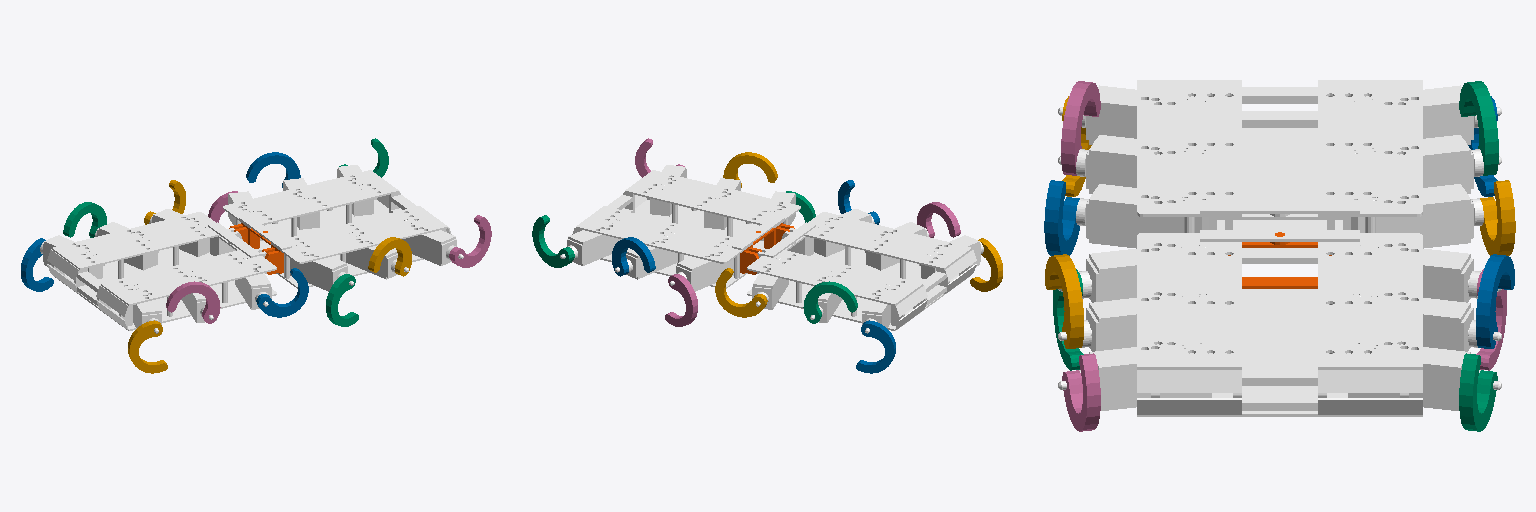
--- Render facts (derived) ---
3 views of the same robot in one strip: view 1: azimuth 30°, elevation 25°; view 2: azimuth 150°, elevation 25°; view 3: azimuth 270°, elevation 25° (orthographic).
Model strirus_gamma with 33 links and 32 joints (14 revolute, 18 fixed), rooted at base_footprint, posed all joints at 0.
Visible links, largest first — view 1: body_1_part, body_2_part, motor_box_right_5, motor_box_right_3, leg_right_0, leg_right_1, leg_right_2, leg_right_4, leg_right_3, motor_box_right_4, leg_right_5, leg_left_1 (+10 smaller); view 2: body_1_part, body_2_part, motor_box_left_5, motor_box_left_3, leg_left_0, leg_left_1, leg_left_2, leg_left_4, leg_left_3, motor_box_left_4, leg_left_5, leg_right_1 (+10 smaller); view 3: body_2_part, body_1_part, motor_box_left_2, motor_box_right_2, motor_box_left_1, motor_box_right_1, motor_box_left_5, motor_box_right_5, motor_box_left_4, motor_box_right_4, motor_box_left_3, motor_box_right_3 (+16 smaller).
Link boxes in pixels (x1,y1,x2,y2): body_1_part: [47, 212, 276, 330]; body_2_part: [223, 170, 451, 288]; motor_box_right_5: [402, 219, 463, 265]; motor_box_right_3: [290, 245, 353, 291]; leg_right_0: [128, 320, 167, 373]; leg_right_1: [166, 281, 220, 323]; leg_right_2: [256, 268, 308, 317]; leg_right_4: [368, 237, 411, 276]; leg_right_3: [326, 274, 358, 326]; motor_box_right_4: [346, 232, 408, 279]; leg_right_5: [449, 215, 491, 267]; leg_left_1: [63, 202, 106, 237]; body_1_part: [747, 212, 976, 330]; body_2_part: [572, 170, 800, 288]; motor_box_left_5: [560, 219, 621, 265]; motor_box_left_3: [670, 245, 733, 291]; leg_left_0: [856, 320, 895, 373]; leg_left_1: [803, 281, 857, 323]; leg_left_2: [715, 268, 767, 317]; leg_left_4: [612, 237, 655, 276]; leg_left_3: [665, 274, 697, 326]; motor_box_left_4: [615, 232, 677, 279]; leg_left_5: [532, 215, 574, 267]; leg_right_1: [917, 202, 960, 237]; body_2_part: [1137, 230, 1422, 416]; body_1_part: [1137, 80, 1422, 263]; motor_box_left_2: [1351, 184, 1483, 248]; motor_box_right_2: [1076, 184, 1208, 248]; motor_box_left_1: [1353, 135, 1501, 193]; motor_box_right_1: [1058, 135, 1206, 193]; motor_box_left_5: [1348, 343, 1501, 410]; motor_box_right_5: [1058, 343, 1211, 410]; motor_box_left_4: [1349, 294, 1501, 351]; motor_box_right_4: [1058, 294, 1210, 351]; motor_box_left_3: [1348, 245, 1501, 302]; motor_box_right_3: [1058, 245, 1211, 302].
Bounding box of the posed robot: 0.7061 × 0.4293 × 0.1427 m (x, y, z).
Meshes: 6 distinct files referenced, 28 mesh visuals loaded (6 binary STL).

URDF robot description (strirus_gamma):
<?xml version="1.0" encoding="utf-8"?>
<!-- =================================================================================== -->
<!-- |    This document was autogenerated by xacro from [local-path]/catkin_ws/src/strirus_gait_planning/physical_object/robot_description/xarco/strirus_gamma.xacro | -->
<!-- |    EDITING THIS FILE BY HAND IS NOT RECOMMENDED                                 | -->
<!-- =================================================================================== -->
<robot name="strirus_gamma">
  <!-- Import Rviz colors -->
  <material name="black">
    <color rgba="0.0 0.0 0.0 1.0"/>
  </material>
  <material name="blue">
    <color rgba="0.0 0.0 0.8 1.0"/>
  </material>
  <material name="green">
    <color rgba="0.0 0.8 0.0 1.0"/>
  </material>
  <material name="grey">
    <color rgba="0.2 0.2 0.2 1.0"/>
  </material>
  <material name="orange">
    <color rgba="1.0 0.423529411765 0.0392156862745 1.0"/>
  </material>
  <material name="brown">
    <color rgba="0.870588235294 0.811764705882 0.764705882353 1.0"/>
  </material>
  <material name="red">
    <color rgba="0.8 0.0 0.0 1.0"/>
  </material>
  <material name="white">
    <color rgba="1.0 1.0 1.0 1.0"/>
  </material>
  <!-- Body description -->
  <link name="base_footprint"/>
  <joint name="base_footprint_body_1_part_fixed" type="fixed">
    <parent link="base_footprint"/>
    <child link="body_1_part"/>
    <origin rpy="0  0  0" xyz="0 0 0.08"/>
  </joint>
  <!-- body 1 -->
  <link name="body_1_part">
    <inertial>
      <mass value="0.665"/>
      <origin rpy="0  0  0" xyz="0.101 0 -0.002"/>
      <inertia ixx="0.005" ixy="0" ixz="0.0001366" iyy="0.013" iyz="0" izz="0.017"/>
    </inertial>
    <collision>
      <origin rpy="0  0  0" xyz="0 0 0"/>
      <geometry>
        <mesh filename="package://robot_description/strirus_cad_design/stl/body_1_collision.stl" scale="1 1 1"/>
      </geometry>
    </collision>
    <visual>
      <origin rpy="0  0  0" xyz="0 0 0"/>
      <geometry>
        <mesh filename="package://robot_description/strirus_cad_design/stl/body_1_visual.stl" scale="1 1 1"/>
        <!-- <mesh filename="package://robot_description/strirus_cad_design/stl/body_1_collision.stl" scale="1 1 1"/> -->
      </geometry>
      <material name="white"/>
    </visual>
  </link>
  <!-- tof camera 1-->
  <link name="tof_camera_1"/>
  <joint name="body_1_part_tof_camera_1_fixed" type="fixed">
    <parent link="body_1_part"/>
    <child link="tof_camera_1"/>
    <origin rpy="0  0  3.14159265359" xyz="-0.0245 0 0"/>
  </joint>
  <!-- imu 1 -->
  <link name="imu_1"/>
  <joint name="body_1_part_imu_1_fixed" type="fixed">
    <parent link="body_1_part"/>
    <child link="imu_1"/>
    <origin rpy="0  0  0" xyz="0 0 0"/>
  </joint>
  <!-- body 2 -->
  <link name="body_2_part">
    <inertial>
      <mass value="0.665"/>
      <origin rpy="0  0  0" xyz="0.146 0 -0.002"/>
      <inertia ixx="0.005" ixy="1.656e-06" ixz="0.0002448" iyy="0.02" iyz="-2.631e-08" izz="0.024"/>
    </inertial>
    <collision>
      <origin rpy="0  0  0" xyz="0 0 0"/>
      <geometry>
        <mesh filename="package://robot_description/strirus_cad_design/stl/body_2_collision.stl" scale="1 1 1"/>
      </geometry>
    </collision>
    <visual>
      <origin rpy="0  0  0" xyz="0 0 0"/>
      <geometry>
        <mesh filename="package://robot_description/strirus_cad_design/stl/body_2_visual.stl" scale="1 1 1"/>
        <!-- <mesh filename="package://robot_description/strirus_cad_design/stl/body_2_collision.stl" scale="1 1 1"/> -->
      </geometry>
      <material name="white"/>
    </visual>
  </link>
  <!-- tof camera 2 -->
  <link name="tof_camera_2"/>
  <joint name="body_2_part_tof_camera_2_fixed" type="fixed">
    <parent link="body_2_part"/>
    <child link="tof_camera_2"/>
    <origin rpy="0  0  0" xyz="0.2715 0 0"/>
  </joint>
  <!-- imu 1 -->
  <link name="imu_2"/>
  <joint name="body_2_part_imu_2_fixed" type="fixed">
    <parent link="body_2_part"/>
    <child link="imu_2"/>
    <origin rpy="0  0  0" xyz="0.2226 0 0"/>
  </joint>
  <!-- bridge 1 -->
  <link name="bridge_1_part">
    <inertial>
      <mass value="0.147"/>
      <origin rpy="0  0  0" xyz="0.005 0 0"/>
      <inertia ixx="0.0003384" ixy="0" ixz="0" iyy="5.442e-05" iyz="0" izz="0.0003303"/>
    </inertial>
    <collision>
      <origin rpy="0  0  0" xyz="0 0 0"/>
      <geometry>
        <mesh filename="package://robot_description/strirus_cad_design/stl/bridge_1_collision.stl" scale="1 1 1"/>
      </geometry>
    </collision>
    <visual>
      <origin rpy="0  0  0" xyz="0 0 0"/>
      <geometry>
        <mesh filename="package://robot_description/strirus_cad_design/stl/bridge_1_visual.stl" scale="1 1 1"/>
        <!-- <mesh filename="package://robot_description/strirus_cad_design/stl/bridge_1_collision.stl" scale="1 1 1"/> -->
      </geometry>
      <material name="white"/>
    </visual>
  </link>
  <!-- bridge 2 -->
  <link name="bridge_2_part">
    <inertial>
      <mass value="0.147"/>
      <origin rpy="0  0  0" xyz="0.025 0 0"/>
      <inertia ixx="0.0003654" ixy="0" ixz="-1.872e-06" iyy="0.0001394" iyz="0" izz="0.0004423"/>
    </inertial>
    <collision>
      <origin rpy="0  0  0" xyz="0 0 0"/>
      <geometry>
        <mesh filename="package://robot_description/strirus_cad_design/stl/bridge_2_collision.stl" scale="1 1 1"/>
      </geometry>
    </collision>
    <visual>
      <origin rpy="0  0  0" xyz="0 0 0"/>
      <geometry>
        <mesh filename="package://robot_description/strirus_cad_design/stl/bridge_2_visual.stl" scale="1 1 1"/>
        <!-- <mesh filename="package://robot_description/strirus_cad_design/stl/bridge_2_collision.stl" scale="1 1 1"/> -->
      </geometry>
      <material name="orange"/>
    </visual>
  </link>
  <joint name="segment_up_revolute" type="revolute">
    <parent link="bridge_1_part"/>
    <child link="bridge_2_part"/>
    <origin rpy="0 -0.0 0" xyz="0.03 0 0"/>
    <axis xyz="0 -1  0"/>
    <limit effort="5" lower="-1.1344640138" upper="1.1344640138" velocity="0.00872664625997"/>
    <dynamics damping="0.1" friction="0.0"/>
  </joint>
  <joint name="segment_side_revolute" type="revolute">
    <parent link="body_1_part"/>
    <child link="bridge_1_part"/>
    <origin rpy="0 0 -0.0" xyz="0.247 0 0"/>
    <axis xyz="0 0  -1"/>
    <limit effort="5" lower="-0.261799387799" upper="0.261799387799" velocity="0.00872664625997"/>
    <dynamics damping="0.0" friction="0.2"/>
  </joint>
  <joint name="bridge_2_part_body_2_part_fixed" type="fixed">
    <parent link="bridge_2_part"/>
    <child link="body_2_part"/>
    <origin rpy="0 0 0" xyz="0.03 0 0"/>
  </joint>
  <!--===================== Link description =====================-->
  <link name="motor_box_left_5">
    <inertial>
      <mass value="0.286"/>
      <origin rpy="0  0  0" xyz="0.053 0.003 0"/>
      <inertia ixx="8.104e-05" ixy="8.747e-06" ixz="2.555e-07" iyy="0.001" iyz="0" izz="0.001"/>
    </inertial>
    <collision>
      <origin rpy="0  0  0" xyz="0 0 0"/>
      <geometry>
        <mesh filename="package://robot_description/strirus_cad_design/stl/motor_box_collision.stl" scale="1 1 1"/>
      </geometry>
    </collision>
    <visual>
      <origin rpy="0  0  0" xyz="0 0 0"/>
      <geometry>
        <mesh filename="package://robot_description/strirus_cad_design/stl/motor_box_visual.stl" scale="1 1 1"/>
      </geometry>
      <material name="white"/>
    </visual>
  </link>
  <link name="leg_left_5">
    <inertial>
      <mass value="0.051"/>
      <origin rpy="0  0  0" xyz="-0.013348671 0 0"/>
      <inertia ixx="0.000102" ixy="0" ixz="-2.817e-05" iyy="0.0001322" iyz="0" izz="3.167e-05"/>
    </inertial>
    <collision>
      <origin rpy="0  0  0" xyz="0 0 0"/>
      <geometry>
        <mesh filename="package://robot_description/strirus_cad_design/stl/leg_80_collision.stl" scale="1 1 1"/>
      </geometry>
    </collision>
    <visual>
      <origin rpy="0 0 0" xyz="0 0 0"/>
      <geometry>
        <mesh filename="package://robot_description/strirus_cad_design/stl/leg_80_visual.stl" scale="1 1 1"/>
      </geometry>
    </visual>
  </link>
  <joint name="motor_box_left_5_fixed_joint" type="fixed">
    <child link="motor_box_left_5"/>
    <parent link="body_2_part"/>
    <origin rpy="0       0        1.308996939" xyz="0.231 0.0701  0"/>
  </joint>
  <joint name="leg_left_5_revolute_joint" type="revolute">
    <parent link="motor_box_left_5"/>
    <child link="leg_left_5"/>
    <origin rpy="0 10.471975512 -1.57079632679" xyz="0.123 0 0"/>
    <!--=============== Joint properties ===============-->
    <axis xyz="0 1  0"/>
    <limit effort="300" lower="-1e+5" upper="1e+5" velocity="3.0"/>
    <dynamics damping="0.001" friction="0.0"/>
  </joint>
  <!--===================== Leg transmission description =====================-->
  <transmission name="leg_left_5_trans">
    <type>transmission_interface/SimpleTransmission</type>
    <joint name="leg_left_5_revolute_joint">
      <hardwareInterface>hardware_interface/PositionJointInterface</hardwareInterface>
      <!-- <hardwareInterface>hardware_interface/EffortJointInterface</hardwareInterface> -->
    </joint>
    <actuator name="leg_left_5_motor">
      <mechanicalReduction>1</mechanicalReduction>
    </actuator>
  </transmission>
  <gazebo reference="leg_left_5">

        </gazebo>
  <gazebo reference="leg_left_5">
    <mu1 value="100.0"/>
    <mu2 value="100.0"/>
    <material>Gazebo/Green</material>
  </gazebo>
  <!-- frameName seems not working data are given according to the world frame -->
  <gazebo reference="leg_left_5">
    <sensor name="leg_left_5_bumper" type="contact">
      <always_on>true</always_on>
      <update_rate>50</update_rate>
      <contact>
        <collision>leg_left_5_collision</collision>
      </contact>
      <plugin filename="libgazebo_ros_bumper.so" name="leg_left_5_bumper_controller">
        <bumperTopicName>leg_left_5_bumper</bumperTopicName>
        <frameName>world</frameName>
      </plugin>
    </sensor>
  </gazebo>
  <!--===================== Link description =====================-->
  <link name="motor_box_left_4">
    <inertial>
      <mass value="0.286"/>
      <origin rpy="0  0  0" xyz="0.053 0.003 0"/>
      <inertia ixx="8.104e-05" ixy="8.747e-06" ixz="2.555e-07" iyy="0.001" iyz="0" izz="0.001"/>
    </inertial>
    <collision>
      <origin rpy="0  0  0" xyz="0 0 0"/>
      <geometry>
        <mesh filename="package://robot_description/strirus_cad_design/stl/motor_box_collision.stl" scale="1 1 1"/>
      </geometry>
    </collision>
    <visual>
      <origin rpy="0  0  0" xyz="0 0 0"/>
      <geometry>
        <mesh filename="package://robot_description/strirus_cad_design/stl/motor_box_visual.stl" scale="1 1 1"/>
      </geometry>
      <material name="white"/>
    </visual>
  </link>
  <link name="leg_left_4">
    <inertial>
      <mass value="0.051"/>
      <origin rpy="0  0  0" xyz="-0.013348671 0 0"/>
      <inertia ixx="0.000102" ixy="0" ixz="-2.817e-05" iyy="0.0001322" iyz="0" izz="3.167e-05"/>
    </inertial>
    <collision>
      <origin rpy="0  0  0" xyz="0 0 0"/>
      <geometry>
        <mesh filename="package://robot_description/strirus_cad_design/stl/leg_80_collision.stl" scale="1 1 1"/>
      </geometry>
    </collision>
    <visual>
      <origin rpy="0 0 0" xyz="0 0 0"/>
      <geometry>
        <mesh filename="package://robot_description/strirus_cad_design/stl/leg_80_visual.stl" scale="1 1 1"/>
      </geometry>
    </visual>
  </link>
  <joint name="motor_box_left_4_fixed_joint" type="fixed">
    <child link="motor_box_left_4"/>
    <parent link="body_2_part"/>
    <origin rpy="0       0        1.308996939" xyz="0.125 0.0701  0"/>
  </joint>
  <joint name="leg_left_4_revolute_joint" type="revolute">
    <parent link="motor_box_left_4"/>
    <child link="leg_left_4"/>
    <origin rpy="0 8.37758040957 -1.57079632679" xyz="0.123 0 0"/>
    <!--=============== Joint properties ===============-->
    <axis xyz="0 1  0"/>
    <limit effort="300" lower="-1e+5" upper="1e+5" velocity="3.0"/>
    <dynamics damping="0.001" friction="0.0"/>
  </joint>
  <!--===================== Leg transmission description =====================-->
  <transmission name="leg_left_4_trans">
    <type>transmission_interface/SimpleTransmission</type>
    <joint name="leg_left_4_revolute_joint">
      <hardwareInterface>hardware_interface/PositionJointInterface</hardwareInterface>
      <!-- <hardwareInterface>hardware_interface/EffortJointInterface</hardwareInterface> -->
    </joint>
    <actuator name="leg_left_4_motor">
      <mechanicalReduction>1</mechanicalReduction>
    </actuator>
  </transmission>
  <gazebo reference="leg_left_4">

        </gazebo>
  <gazebo reference="leg_left_4">
    <mu1 value="100.0"/>
    <mu2 value="100.0"/>
    <material>Gazebo/Green</material>
  </gazebo>
  <!-- frameName seems not working data are given according to the world frame -->
  <gazebo reference="leg_left_4">
    <sensor name="leg_left_4_bumper" type="contact">
      <always_on>true</always_on>
      <update_rate>50</update_rate>
      <contact>
        <collision>leg_left_4_collision</collision>
      </contact>
      <plugin filename="libgazebo_ros_bumper.so" name="leg_left_4_bumper_controller">
        <bumperTopicName>leg_left_4_bumper</bumperTopicName>
        <frameName>world</frameName>
      </plugin>
    </sensor>
  </gazebo>
  <!--===================== Link description =====================-->
  <link name="motor_box_left_3">
    <inertial>
      <mass value="0.286"/>
      <origin rpy="0  0  0" xyz="0.053 0.003 0"/>
      <inertia ixx="8.104e-05" ixy="8.747e-06" ixz="2.555e-07" iyy="0.001" iyz="0" izz="0.001"/>
    </inertial>
    <collision>
      <origin rpy="0  0  0" xyz="0 0 0"/>
      <geometry>
        <mesh filename="package://robot_description/strirus_cad_design/stl/motor_box_collision.stl" scale="1 1 1"/>
      </geometry>
    </collision>
    <visual>
      <origin rpy="0  0  0" xyz="0 0 0"/>
      <geometry>
        <mesh filename="package://robot_description/strirus_cad_design/stl/motor_box_visual.stl" scale="1 1 1"/>
      </geometry>
      <material name="white"/>
    </visual>
  </link>
  <link name="leg_left_3">
    <inertial>
      <mass value="0.051"/>
      <origin rpy="0  0  0" xyz="-0.013348671 0 0"/>
      <inertia ixx="0.000102" ixy="0" ixz="-2.817e-05" iyy="0.0001322" iyz="0" izz="3.167e-05"/>
    </inertial>
    <collision>
      <origin rpy="0  0  0" xyz="0 0 0"/>
      <geometry>
        <mesh filename="package://robot_description/strirus_cad_design/stl/leg_80_collision.stl" scale="1 1 1"/>
      </geometry>
    </collision>
    <visual>
      <origin rpy="0 0 0" xyz="0 0 0"/>
      <geometry>
        <mesh filename="package://robot_description/strirus_cad_design/stl/leg_80_visual.stl" scale="1 1 1"/>
      </geometry>
    </visual>
  </link>
  <joint name="motor_box_left_3_fixed_joint" type="fixed">
    <child link="motor_box_left_3"/>
    <parent link="body_2_part"/>
    <origin rpy="0       0        1.308996939" xyz="0.019 0.0701  0"/>
  </joint>
  <joint name="leg_left_3_revolute_joint" type="revolute">
    <parent link="motor_box_left_3"/>
    <child link="leg_left_3"/>
    <origin rpy="0 6.28318530718 -1.57079632679" xyz="0.123 0 0"/>
    <!--=============== Joint properties ===============-->
    <axis xyz="0 1  0"/>
    <limit effort="300" lower="-1e+5" upper="1e+5" velocity="3.0"/>
    <dynamics damping="0.001" friction="0.0"/>
  </joint>
  <!--===================== Leg transmission description =====================-->
  <transmission name="leg_left_3_trans">
    <type>transmission_interface/SimpleTransmission</type>
    <joint name="leg_left_3_revolute_joint">
      <hardwareInterface>hardware_interface/PositionJointInterface</hardwareInterface>
      <!-- <hardwareInterface>hardware_interface/EffortJointInterface</hardwareInterface> -->
    </joint>
    <actuator name="leg_left_3_motor">
      <mechanicalReduction>1</mechanicalReduction>
    </actuator>
  </transmission>
  <gazebo reference="leg_left_3">

        </gazebo>
  <gazebo reference="leg_left_3">
    <mu1 value="100.0"/>
    <mu2 value="100.0"/>
    <material>Gazebo/Green</material>
  </gazebo>
  <!-- frameName seems not working data are given according to the world frame -->
  <gazebo reference="leg_left_3">
    <sensor name="leg_left_3_bumper" type="contact">
      <always_on>true</always_on>
      <update_rate>50</update_rate>
      <contact>
        <collision>leg_left_3_collision</collision>
      </contact>
      <plugin filename="libgazebo_ros_bumper.so" name="leg_left_3_bumper_controller">
        <bumperTopicName>leg_left_3_bumper</bumperTopicName>
        <frameName>world</frameName>
      </plugin>
    </sensor>
  </gazebo>
  <!--===================== Link description =====================-->
  <link name="motor_box_left_2">
    <inertial>
      <mass value="0.286"/>
      <origin rpy="0  0  0" xyz="0.053 0.003 0"/>
      <inertia ixx="8.104e-05" ixy="8.747e-06" ixz="2.555e-07" iyy="0.001" iyz="0" izz="0.001"/>
    </inertial>
    <collision>
      <origin rpy="0  0  0" xyz="0 0 0"/>
      <geometry>
        <mesh filename="package://robot_description/strirus_cad_design/stl/motor_box_collision.stl" scale="1 1 1"/>
      </geometry>
    </collision>
    <visual>
      <origin rpy="0  0  0" xyz="0 0 0"/>
      <geometry>
        <mesh filename="package://robot_description/strirus_cad_design/stl/motor_box_visual.stl" scale="1 1 1"/>
      </geometry>
      <material name="white"/>
    </visual>
  </link>
  <link name="leg_left_2">
    <inertial>
      <mass value="0.051"/>
      <origin rpy="0  0  0" xyz="-0.013348671 0 0"/>
      <inertia ixx="0.000102" ixy="0" ixz="-2.817e-05" iyy="0.0001322" iyz="0" izz="3.167e-05"/>
    </inertial>
    <collision>
      <origin rpy="0  0  0" xyz="0 0 0"/>
      <geometry>
        <mesh filename="package://robot_description/strirus_cad_design/stl/leg_80_collision.stl" scale="1 1 1"/>
      </geometry>
    </collision>
    <visual>
      <origin rpy="0 0 0" xyz="0 0 0"/>
      <geometry>
        <mesh filename="package://robot_description/strirus_cad_design/stl/leg_80_visual.stl" scale="1 1 1"/>
      </geometry>
    </visual>
  </link>
  <joint name="motor_box_left_2_fixed_joint" type="fixed">
    <child link="motor_box_left_2"/>
    <parent link="body_1_part"/>
    <origin rpy="0       0        1.83259571459" xyz="0.228 0.0701  0"/>
  </joint>
  <joint name="leg_left_2_revolute_joint" type="revolute">
    <parent link="motor_box_left_2"/>
    <child link="leg_left_2"/>
    <origin rpy="0 4.18879020479 -1.57079632679" xyz="0.123 0 0"/>
    <!--=============== Joint properties ===============-->
    <axis xyz="0 1  0"/>
    <limit effort="300" lower="-1e+5" upper="1e+5" velocity="3.0"/>
    <dynamics damping="0.001" friction="0.0"/>
  </joint>
  <!--===================== Leg transmission description =====================-->
  <transmission name="leg_left_2_trans">
    <type>transmission_interface/SimpleTransmission</type>
    <joint name="leg_left_2_revolute_joint">
      <hardwareInterface>hardware_interface/PositionJointInterface</hardwareInterface>
      <!-- <hardwareInterface>hardware_interface/EffortJointInterface</hardwareInterface> -->
    </joint>
    <actuator name="leg_left_2_motor">
      <mechanicalReduction>1</mechanicalReduction>
    </actuator>
  </transmission>
  <gazebo reference="leg_left_2">

        </gazebo>
  <gazebo reference="leg_left_2">
    <mu1 value="100.0"/>
    <mu2 value="100.0"/>
    <material>Gazebo/Green</material>
  </gazebo>
  <!-- frameName seems not working data are given according to the world frame -->
  <gazebo reference="leg_left_2">
    <sensor name="leg_left_2_bumper" type="contact">
      <always_on>true</always_on>
      <update_rate>50</update_rate>
      <contact>
        <collision>leg_left_2_collision</collision>
      </contact>
      <plugin filename="libgazebo_ros_bumper.so" name="leg_left_2_bumper_controller">
        <bumperTopicName>leg_left_2_bumper</bumperTopicName>
        <frameName>world</frameName>
      </plugin>
    </sensor>
  </gazebo>
  <!--===================== Link description =====================-->
  <link name="motor_box_left_1">
    <inertial>
      <mass value="0.286"/>
      <origin rpy="0  0  0" xyz="0.053 0.003 0"/>
      <inertia ixx="8.104e-05" ixy="8.747e-06" ixz="2.555e-07" iyy="0.001" iyz="0" izz="0.001"/>
    </inertial>
    <collision>
      <origin rpy="0  0  0" xyz="0 0 0"/>
      <geometry>
        <mesh filename="package://robot_description/strirus_cad_design/stl/motor_box_collision.stl" scale="1 1 1"/>
      </geometry>
    </collision>
    <visual>
      <origin rpy="0  0  0" xyz="0 0 0"/>
      <geometry>
        <mesh filename="package://robot_description/strirus_cad_design/stl/motor_box_visual.stl" scale="1 1 1"/>
      </geometry>
      <material name="white"/>
    </visual>
  </link>
  <link name="leg_left_1">
    <inertial>
      <mass value="0.051"/>
      <origin rpy="0  0  0" xyz="-0.013348671 0 0"/>
      <inertia ixx="0.000102" ixy="0" ixz="-2.817e-05" iyy="0.0001322" iyz="0" izz="3.167e-05"/>
    </inertial>
    <collision>
      <origin rpy="0  0  0" xyz="0 0 0"/>
      <geometry>
        <mesh filename="package://robot_description/strirus_cad_design/stl/leg_80_collision.stl" scale="1 1 1"/>
      </geometry>
    </collision>
    <visual>
      <origin rpy="0 0 0" xyz="0 0 0"/>
      <geometry>
        <mesh filename="package://robot_description/strirus_cad_design/stl/leg_80_visual.stl" scale="1 1 1"/>
      </geometry>
    </visual>
  </link>
  <joint name="motor_box_left_1_fixed_joint" type="fixed">
    <child link="motor_box_left_1"/>
    <parent link="body_1_part"/>
    <origin rpy="0       0        1.83259571459" xyz="0.122 0.0701  0"/>
  </joint>
  <joint name="leg_left_1_revolute_joint" type="revolute">
    <parent link="motor_box_left_1"/>
    <child link="leg_left_1"/>
    <origin rpy="0 2.09439510239 -1.57079632679" xyz="0.123 0 0"/>
    <!--=============== Joint properties ===============-->
    <axis xyz="0 1  0"/>
    <limit effort="300" lower="-1e+5" upper="1e+5" velocity="3.0"/>
    <dynamics damping="0.001" friction="0.0"/>
  </joint>
  <!--===================== Leg transmission description =====================-->
  <transmission name="leg_left_1_trans">
    <type>transmission_interface/SimpleTransmission</type>
    <joint name="leg_left_1_revolute_joint">
      <hardwareInterface>hardware_interface/PositionJointInterface</hardwareInterface>
      <!-- <hardwareInterface>hardware_interface/EffortJointInterface</hardwareInterface> -->
    </joint>
    <actuator name="leg_left_1_motor">
      <mechanicalReduction>1</mechanicalReduction>
    </actuator>
  </transmission>
  <gazebo reference="leg_left_1">

        </gazebo>
  <gazebo reference="leg_left_1">
    <mu1 value="100.0"/>
    <mu2 value="100.0"/>
    <material>Gazebo/Green</material>
  </gazebo>
  <!-- frameName seems not working data are given according to the world frame -->
  <gazebo reference="leg_left_1">
    <sensor name="leg_left_1_bumper" type="contact">
      <always_on>true</always_on>
      <update_rate>50</update_rate>
      <contact>
        <collision>leg_left_1_collision</collision>
      </contact>
      <plugin filename="libgazebo_ros_bumper.so" name="leg_left_1_bumper_controller">
        <bumperTopicName>leg_left_1_bumper</bumperTopicName>
        <frameName>world</frameName>
      </plugin>
    </sensor>
  </gazebo>
  <!--===================== Link description =====================-->
  <link name="motor_box_left_0">
    <inertial>
      <mass value="0.286"/>
      <origin rpy="0  0  0" xyz="0.053 0.003 0"/>
      <inertia ixx="8.104e-05" ixy="8.747e-06" ixz="2.555e-07" iyy="0.001" iyz="0" izz="0.001"/>
    </inertial>
    <collision>
      <origin rpy="0  0  0" xyz="0 0 0"/>
      <geometry>
        <mesh filename="package://robot_description/strirus_cad_design/stl/motor_box_collision.stl" scale="1 1 1"/>
      </geometry>
    </collision>
    <visual>
      <origin rpy="0  0  0" xyz="0 0 0"/>
      <geometry>
        <mesh filename="package://robot_description/strirus_cad_design/stl/motor_box_visual.stl" scale="1 1 1"/>
      </geometry>
      <material name="white"/>
    </visual>
  </link>
  <link name="leg_left_0">
    <inertial>
      <mass value="0.051"/>
      <origin rpy="0  0  0" xyz="-0.013348671 0 0"/>
      <inertia ixx="0.000102" ixy="0" ixz="-2.817e-05" iyy="0.0001322" iyz="0" izz="3.167e-05"/>
    </inertial>
    <collision>
      <origin rpy="0  0  0" xyz="0 0 0"/>
      <geometry>
        <mesh filename="package://robot_description/strirus_cad_design/stl/leg_80_collision.stl" scale="1 1 1"/>
      </geometry>
    </collision>
    <visual>
      <origin rpy="0 0 0" xyz="0 0 0"/>
      <geometry>
        <mesh filename="package://robot_description/strirus_cad_design/stl/leg_80_visual.stl" scale="1 1 1"/>
      </geometry>
    </visual>
  </link>
  <joint name="motor_box_left_0_fixed_joint" type="fixed">
    <child link="motor_box_left_0"/>
    <parent link="body_1_part"/>
    <origin rpy="0       0        1.83259571459" xyz="0.016 0.0701  0"/>
  </joint>
  <joint name="leg_left_0_revolute_joint" type="revolute">
    <parent link="motor_box_left_0"/>
    <child link="leg_left_0"/>
    <origin rpy="0 0.0 -1.57079632679" xyz="0.123 0 0"/>
    <!--=============== Joint properties ===============-->
    <axis xyz="0 1  0"/>
    <limit effort="300" lower="-1e+5" upper="1e+5" velocity="3.0"/>
    <dynamics damping="0.001" friction="0.0"/>
  </joint>
  <!--===================== Leg transmission description =====================-->
  <transmission name="leg_left_0_trans">
    <type>transmission_interface/SimpleTransmission</type>
    <joint name="leg_left_0_revolute_joint">
      <hardwareInterface>hardware_interface/PositionJointInterface</hardwareInterface>
      <!-- <hardwareInterface>hardware_interface/EffortJointInterface</hardwareInterface> -->
    </joint>
    <actuator name="leg_left_0_motor">
      <mechanicalReduction>1</mechanicalReduction>
    </actuator>
  </transmission>
  <gazebo reference="leg_left_0">

        </gazebo>
  <gazebo reference="leg_left_0">
    <mu1 value="100.0"/>
    <mu2 value="100.0"/>
    <material>Gazebo/Green</material>
  </gazebo>
  <!-- frameName seems not working data are given according to the world frame -->
  <gazebo reference="leg_left_0">
    <sensor name="leg_left_0_bumper" type="contact">
      <always_on>true</always_on>
      <update_rate>50</update_rate>
      <contact>
        <collision>leg_left_0_collision</collision>
      </contact>
      <plugin filename="libgazebo_ros_bumper.so" name="leg_left_0_bumper_controller">
        <bumperTopicName>leg_left_0_bumper</bumperTopicName>
        <frameName>world</frameName>
      </plugin>
    </sensor>
  </gazebo>
  <!--===================== Link description =====================-->
  <link name="motor_box_right_5">
    <inertial>
      <mass value="0.286"/>
      <origin rpy="0  0  0" xyz="0.053 0.003 0"/>
      <inertia ixx="8.104e-05" ixy="8.747e-06" ixz="2.555e-07" iyy="0.001" iyz="0" izz="0.001"/>
    </inertial>
    <collision>
      <origin rpy="0  0  0" xyz="0 0 0"/>
      <geometry>
        <mesh filename="package://robot_description/strirus_cad_design/stl/motor_box_collision.stl" scale="1 1 1"/>
      </geometry>
    </collision>
    <visual>
      <origin rpy="0  0  0" xyz="0 0 0"/>
      <geometry>
        <mesh filename="package://robot_description/strirus_cad_design/stl/motor_box_visual.stl" scale="1 1 1"/>
      </geometry>
      <material name="white"/>
    </visual>
  </link>
  <link name="leg_right_5">
    <inertial>
      <mass value="0.051"/>
      <origin rpy="0  0  0" xyz="-0.013348671 0 0"/>
      <inertia ixx="0.000102" ixy="0" ixz="-2.817e-05" iyy="0.0001322" iyz="0" izz="3.167e-05"/>
    </inertial>
    <collision>
      <origin rpy="0  0  0" xyz="0 0 0"/>
      <geometry>
        <mesh filename="package://robot_description/strirus_cad_design/stl/leg_80_collision.stl" scale="1 1 1"/>
      </geometry>
    </collision>
    <visual>
      <origin rpy="0 0 0" xyz="0 0 0"/>
      <geometry>
        <mesh filename="package://robot_description/strirus_cad_design/stl/leg_80_visual.stl" scale="1 1 1"/>
      </geometry>
    </visual>
  </link>
  <joint name="motor_box_right_5_fixed_joint" type="fixed">
    <child link="motor_box_right_5"/>
    <parent link="body_2_part"/>
    <origin rpy="0       0        -1.308996939" xyz="0.231 -0.0701  0"/>
  </joint>
  <joint name="leg_right_5_revolute_joint" type="revolute">
    <parent link="motor_box_right_5"/>
    <child link="leg_right_5"/>
    <origin rpy="0 10.471975512 1.57079632679" xyz="0.123 0 0"/>
    <!--=============== Joint properties ===============-->
    <axis xyz="0 1  0"/>
    <limit effort="300" lower="-1e+5" upper="1e+5" velocity="3.0"/>
    <dynamics damping="0.001" friction="0.0"/>
  </joint>
  <!--===================== Leg transmission description =====================-->
  <transmission name="leg_right_5_trans">
    <type>transmission_interface/SimpleTransmission</type>
    <joint name="leg_right_5_revolute_joint">
      <hardwareInterface>hardware_interface/PositionJointInterface</hardwareInterface>
      <!-- <hardwareInterface>hardware_interface/EffortJointInterface</hardwareInterface> -->
    </joint>
    <actuator name="leg_right_5_motor">
      <mechanicalReduction>1</mechanicalReduction>
    </actuator>
  </transmission>
  <gazebo reference="leg_right_5">

        </gazebo>
  <gazebo reference="leg_right_5">
    <mu1 value="100.0"/>
    <mu2 value="100.0"/>
    <material>Gazebo/Green</material>
  </gazebo>
  <!-- frameName seems not working data are given according to the world frame -->
  <gazebo reference="leg_right_5">
    <sensor name="leg_right_5_bumper" type="contact">
      <always_on>true</always_on>
      <update_rate>50</update_rate>
      <contact>
        <collision>leg_right_5_collision</collision>
      </contact>
      <plugin filename="libgazebo_ros_bumper.so" name="leg_right_5_bumper_controller">
        <bumperTopicName>leg_right_5_bumper</bumperTopicName>
        <frameName>world</frameName>
      </plugin>
    </sensor>
  </gazebo>
  <!--===================== Link description =====================-->
  <link name="motor_box_right_4">
    <inertial>
      <mass value="0.286"/>
      <origin rpy="0  0  0" xyz="0.053 0.003 0"/>
      <inertia ixx="8.104e-05" ixy="8.747e-06" ixz="2.555e-07" iyy="0.001" iyz="0" izz="0.001"/>
    </inertial>
    <collision>
      <origin rpy="0  0  0" xyz="0 0 0"/>
      <geometry>
        <mesh filename="package://robot_description/strirus_cad_design/stl/motor_box_collision.stl" scale="1 1 1"/>
      </geometry>
    </collision>
    <visual>
      <origin rpy="0  0  0" xyz="0 0 0"/>
      <geometry>
        <mesh filename="package://robot_description/strirus_cad_design/stl/motor_box_visual.stl" scale="1 1 1"/>
      </geometry>
      <material name="white"/>
    </visual>
  </link>
  <link name="leg_right_4">
    <inertial>
      <mass value="0.051"/>
      <origin rpy="0  0  0" xyz="-0.013348671 0 0"/>
      <inertia ixx="0.000102" ixy="0" ixz="-2.817e-05" iyy="0.0001322" iyz="0" izz="3.167e-05"/>
    </inertial>
    <collision>
      <origin rpy="0  0  0" xyz="0 0 0"/>
      <geometry>
        <mesh filename="package://robot_description/strirus_cad_design/stl/leg_80_collision.stl" scale="1 1 1"/>
      </geometry>
    </collision>
    <visual>
      <origin rpy="0 0 0" xyz="0 0 0"/>
      <geometry>
        <mesh filename="package://robot_description/strirus_cad_design/stl/leg_80_visual.stl" scale="1 1 1"/>
      </geometry>
    </visual>
  </link>
  <joint name="motor_box_right_4_fixed_joint" type="fixed">
    <child link="motor_box_right_4"/>
    <parent link="body_2_part"/>
    <origin rpy="0       0        -1.308996939" xyz="0.125 -0.0701  0"/>
  </joint>
  <joint name="leg_right_4_revolute_joint" type="revolute">
    <parent link="motor_box_right_4"/>
    <child link="leg_right_4"/>
    <origin rpy="0 8.37758040957 1.57079632679" xyz="0.123 0 0"/>
    <!--=============== Joint properties ===============-->
    <axis xyz="0 1  0"/>
    <limit effort="300" lower="-1e+5" upper="1e+5" velocity="3.0"/>
    <dynamics damping="0.001" friction="0.0"/>
  </joint>
  <!--===================== Leg transmission description =====================-->
  <transmission name="leg_right_4_trans">
    <type>transmission_interface/SimpleTransmission</type>
    <joint name="leg_right_4_revolute_joint">
      <hardwareInterface>hardware_interface/PositionJointInterface</hardwareInterface>
      <!-- <hardwareInterface>hardware_interface/EffortJointInterface</hardwareInterface> -->
    </joint>
    <actuator name="leg_right_4_motor">
      <mechanicalReduction>1</mechanicalReduction>
    </actuator>
  </transmission>
  <gazebo reference="leg_right_4">

        </gazebo>
  <gazebo reference="leg_right_4">
    <mu1 value="100.0"/>
    <mu2 value="100.0"/>
    <material>Gazebo/Green</material>
  </gazebo>
  <!-- frameName seems not working data are given according to the world frame -->
  <gazebo reference="leg_right_4">
    <sensor name="leg_right_4_bumper" type="contact">
      <always_on>true</always_on>
      <update_rate>50</update_rate>
      <contact>
        <collision>leg_right_4_collision</collision>
      </contact>
      <plugin filename="libgazebo_ros_bumper.so" name="leg_right_4_bumper_controller">
        <bumperTopicName>leg_right_4_bumper</bumperTopicName>
        <frameName>world</frameName>
      </plugin>
    </sensor>
  </gazebo>
  <!--===================== Link description =====================-->
  <link name="motor_box_right_3">
    <inertial>
      <mass value="0.286"/>
      <origin rpy="0  0  0" xyz="0.053 0.003 0"/>
      <inertia ixx="8.104e-05" ixy="8.747e-06" ixz="2.555e-07" iyy="0.001" iyz="0" izz="0.001"/>
    </inertial>
    <collision>
      <origin rpy="0  0  0" xyz="0 0 0"/>
      <geometry>
        <mesh filename="package://robot_description/strirus_cad_design/stl/motor_box_collision.stl" scale="1 1 1"/>
      </geometry>
    </collision>
    <visual>
      <origin rpy="0  0  0" xyz="0 0 0"/>
      <geometry>
        <mesh filename="package://robot_description/strirus_cad_design/stl/motor_box_visual.stl" scale="1 1 1"/>
      </geometry>
      <material name="white"/>
    </visual>
  </link>
  <link name="leg_right_3">
    <inertial>
      <mass value="0.051"/>
      <origin rpy="0  0  0" xyz="-0.013348671 0 0"/>
      <inertia ixx="0.000102" ixy="0" ixz="-2.817e-05" iyy="0.0001322" iyz="0" izz="3.167e-05"/>
    </inertial>
    <collision>
      <origin rpy="0  0  0" xyz="0 0 0"/>
      <geometry>
        <mesh filename="package://robot_description/strirus_cad_design/stl/leg_80_collision.stl" scale="1 1 1"/>
      </geometry>
    </collision>
    <visual>
      <origin rpy="0 0 0" xyz="0 0 0"/>
      <geometry>
        <mesh filename="package://robot_description/strirus_cad_design/stl/leg_80_visual.stl" scale="1 1 1"/>
      </geometry>
    </visual>
  </link>
  <joint name="motor_box_right_3_fixed_joint" type="fixed">
    <child link="motor_box_right_3"/>
    <parent link="body_2_part"/>
    <origin rpy="0       0        -1.308996939" xyz="0.019 -0.0701  0"/>
  </joint>
  <joint name="leg_right_3_revolute_joint" type="revolute">
    <parent link="motor_box_right_3"/>
    <child link="leg_right_3"/>
    <origin rpy="0 6.28318530718 1.57079632679" xyz="0.123 0 0"/>
    <!--=============== Joint properties ===============-->
    <axis xyz="0 1  0"/>
    <limit effort="300" lower="-1e+5" upper="1e+5" velocity="3.0"/>
    <dynamics damping="0.001" friction="0.0"/>
  </joint>
  <!--===================== Leg transmission description =====================-->
  <transmission name="leg_right_3_trans">
    <type>transmission_interface/SimpleTransmission</type>
    <joint name="leg_right_3_revolute_joint">
      <hardwareInterface>hardware_interface/PositionJointInterface</hardwareInterface>
      <!-- <hardwareInterface>hardware_interface/EffortJointInterface</hardwareInterface> -->
    </joint>
    <actuator name="leg_right_3_motor">
      <mechanicalReduction>1</mechanicalReduction>
    </actuator>
  </transmission>
  <gazebo reference="leg_right_3">

        </gazebo>
  <gazebo reference="leg_right_3">
    <mu1 value="100.0"/>
    <mu2 value="100.0"/>
    <material>Gazebo/Green</material>
  </gazebo>
  <!-- frameName seems not working data are given according to the world frame -->
  <gazebo reference="leg_right_3">
    <sensor name="leg_right_3_bumper" type="contact">
      <always_on>true</always_on>
      <update_rate>50</update_rate>
      <contact>
        <collision>leg_right_3_collision</collision>
      </contact>
      <plugin filename="libgazebo_ros_bumper.so" name="leg_right_3_bumper_controller">
        <bumperTopicName>leg_right_3_bumper</bumperTopicName>
        <frameName>world</frameName>
      </plugin>
    </sensor>
  </gazebo>
  <!--===================== Link description =====================-->
  <link name="motor_box_right_2">
    <inertial>
      <mass value="0.286"/>
      <origin rpy="0  0  0" xyz="0.053 0.003 0"/>
      <inertia ixx="8.104e-05" ixy="8.747e-06" ixz="2.555e-07" iyy="0.001" iyz="0" izz="0.001"/>
    </inertial>
    <collision>
      <origin rpy="0  0  0" xyz="0 0 0"/>
      <geometry>
        <mesh filename="package://robot_description/strirus_cad_design/stl/motor_box_collision.stl" scale="1 1 1"/>
      </geometry>
    </collision>
    <visual>
      <origin rpy="0  0  0" xyz="0 0 0"/>
      <geometry>
        <mesh filename="package://robot_description/strirus_cad_design/stl/motor_box_visual.stl" scale="1 1 1"/>
      </geometry>
      <material name="white"/>
    </visual>
  </link>
  <link name="leg_right_2">
    <inertial>
      <mass value="0.051"/>
      <origin rpy="0  0  0" xyz="-0.013348671 0 0"/>
      <inertia ixx="0.000102" ixy="0" ixz="-2.817e-05" iyy="0.0001322" iyz="0" izz="3.167e-05"/>
    </inertial>
    <collision>
      <origin rpy="0  0  0" xyz="0 0 0"/>
      <geometry>
        <mesh filename="package://robot_description/strirus_cad_design/stl/leg_80_collision.stl" scale="1 1 1"/>
      </geometry>
    </collision>
    <visual>
      <origin rpy="0 0 0" xyz="0 0 0"/>
      <geometry>
        <mesh filename="package://robot_description/strirus_cad_design/stl/leg_80_visual.stl" scale="1 1 1"/>
      </geometry>
    </visual>
  </link>
  <joint name="motor_box_right_2_fixed_joint" type="fixed">
    <child link="motor_box_right_2"/>
    <parent link="body_1_part"/>
    <origin rpy="0       0        -1.83259571459" xyz="0.228 -0.0701  0"/>
  </joint>
  <joint name="leg_right_2_revolute_joint" type="revolute">
    <parent link="motor_box_right_2"/>
    <child link="leg_right_2"/>
    <origin rpy="0 4.18879020479 1.57079632679" xyz="0.123 0 0"/>
    <!--=============== Joint properties ===============-->
    <axis xyz="0 1  0"/>
    <limit effort="300" lower="-1e+5" upper="1e+5" velocity="3.0"/>
    <dynamics damping="0.001" friction="0.0"/>
  </joint>
  <!--===================== Leg transmission description =====================-->
  <transmission name="leg_right_2_trans">
    <type>transmission_interface/SimpleTransmission</type>
    <joint name="leg_right_2_revolute_joint">
      <hardwareInterface>hardware_interface/PositionJointInterface</hardwareInterface>
      <!-- <hardwareInterface>hardware_interface/EffortJointInterface</hardwareInterface> -->
    </joint>
    <actuator name="leg_right_2_motor">
      <mechanicalReduction>1</mechanicalReduction>
    </actuator>
  </transmission>
  <gazebo reference="leg_right_2">

        </gazebo>
  <gazebo reference="leg_right_2">
    <mu1 value="100.0"/>
    <mu2 value="100.0"/>
    <material>Gazebo/Green</material>
  </gazebo>
  <!-- frameName seems not working data are given according to the world frame -->
  <gazebo reference="leg_right_2">
    <sensor name="leg_right_2_bumper" type="contact">
      <always_on>true</always_on>
      <update_rate>50</update_rate>
      <contact>
        <collision>leg_right_2_collision</collision>
      </contact>
      <plugin filename="libgazebo_ros_bumper.so" name="leg_right_2_bumper_controller">
        <bumperTopicName>leg_right_2_bumper</bumperTopicName>
        <frameName>world</frameName>
      </plugin>
    </sensor>
  </gazebo>
  <!--===================== Link description =====================-->
  <link name="motor_box_right_1">
    <inertial>
      <mass value="0.286"/>
      <origin rpy="0  0  0" xyz="0.053 0.003 0"/>
      <inertia ixx="8.104e-05" ixy="8.747e-06" ixz="2.555e-07" iyy="0.001" iyz="0" izz="0.001"/>
    </inertial>
    <collision>
      <origin rpy="0  0  0" xyz="0 0 0"/>
      <geometry>
        <mesh filename="package://robot_description/strirus_cad_design/stl/motor_box_collision.stl" scale="1 1 1"/>
      </geometry>
    </collision>
    <visual>
      <origin rpy="0  0  0" xyz="0 0 0"/>
      <geometry>
        <mesh filename="package://robot_description/strirus_cad_design/stl/motor_box_visual.stl" scale="1 1 1"/>
      </geometry>
      <material name="white"/>
    </visual>
  </link>
  <link name="leg_right_1">
    <inertial>
      <mass value="0.051"/>
      <origin rpy="0  0  0" xyz="-0.013348671 0 0"/>
      <inertia ixx="0.000102" ixy="0" ixz="-2.817e-05" iyy="0.0001322" iyz="0" izz="3.167e-05"/>
    </inertial>
    <collision>
      <origin rpy="0  0  0" xyz="0 0 0"/>
      <geometry>
        <mesh filename="package://robot_description/strirus_cad_design/stl/leg_80_collision.stl" scale="1 1 1"/>
      </geometry>
    </collision>
    <visual>
      <origin rpy="0 0 0" xyz="0 0 0"/>
      <geometry>
        <mesh filename="package://robot_description/strirus_cad_design/stl/leg_80_visual.stl" scale="1 1 1"/>
      </geometry>
    </visual>
  </link>
  <joint name="motor_box_right_1_fixed_joint" type="fixed">
    <child link="motor_box_right_1"/>
    <parent link="body_1_part"/>
    <origin rpy="0       0        -1.83259571459" xyz="0.122 -0.0701  0"/>
  </joint>
  <joint name="leg_right_1_revolute_joint" type="revolute">
    <parent link="motor_box_right_1"/>
    <child link="leg_right_1"/>
    <origin rpy="0 2.09439510239 1.57079632679" xyz="0.123 0 0"/>
    <!--=============== Joint properties ===============-->
    <axis xyz="0 1  0"/>
    <limit effort="300" lower="-1e+5" upper="1e+5" velocity="3.0"/>
    <dynamics damping="0.001" friction="0.0"/>
  </joint>
  <!--===================== Leg transmission description =====================-->
  <transmission name="leg_right_1_trans">
    <type>transmission_interface/SimpleTransmission</type>
    <joint name="leg_right_1_revolute_joint">
      <hardwareInterface>hardware_interface/PositionJointInterface</hardwareInterface>
      <!-- <hardwareInterface>hardware_interface/EffortJointInterface</hardwareInterface> -->
    </joint>
    <actuator name="leg_right_1_motor">
      <mechanicalReduction>1</mechanicalReduction>
    </actuator>
  </transmission>
  <gazebo reference="leg_right_1">

        </gazebo>
  <gazebo reference="leg_right_1">
    <mu1 value="100.0"/>
    <mu2 value="100.0"/>
    <material>Gazebo/Green</material>
  </gazebo>
  <!-- frameName seems not working data are given according to the world frame -->
  <gazebo reference="leg_right_1">
    <sensor name="leg_right_1_bumper" type="contact">
      <always_on>true</always_on>
      <update_rate>50</update_rate>
      <contact>
        <collision>leg_right_1_collision</collision>
      </contact>
      <plugin filename="libgazebo_ros_bumper.so" name="leg_right_1_bumper_controller">
        <bumperTopicName>leg_right_1_bumper</bumperTopicName>
        <frameName>world</frameName>
      </plugin>
    </sensor>
  </gazebo>
  <!--===================== Link description =====================-->
  <link name="motor_box_right_0">
    <inertial>
      <mass value="0.286"/>
      <origin rpy="0  0  0" xyz="0.053 0.003 0"/>
      <inertia ixx="8.104e-05" ixy="8.747e-06" ixz="2.555e-07" iyy="0.001" iyz="0" izz="0.001"/>
    </inertial>
    <collision>
      <origin rpy="0  0  0" xyz="0 0 0"/>
      <geometry>
        <mesh filename="package://robot_description/strirus_cad_design/stl/motor_box_collision.stl" scale="1 1 1"/>
      </geometry>
    </collision>
    <visual>
      <origin rpy="0  0  0" xyz="0 0 0"/>
      <geometry>
        <mesh filename="package://robot_description/strirus_cad_design/stl/motor_box_visual.stl" scale="1 1 1"/>
      </geometry>
      <material name="white"/>
    </visual>
  </link>
  <link name="leg_right_0">
    <inertial>
      <mass value="0.051"/>
      <origin rpy="0  0  0" xyz="-0.013348671 0 0"/>
      <inertia ixx="0.000102" ixy="0" ixz="-2.817e-05" iyy="0.0001322" iyz="0" izz="3.167e-05"/>
    </inertial>
    <collision>
      <origin rpy="0  0  0" xyz="0 0 0"/>
      <geometry>
        <mesh filename="package://robot_description/strirus_cad_design/stl/leg_80_collision.stl" scale="1 1 1"/>
      </geometry>
    </collision>
    <visual>
      <origin rpy="0 0 0" xyz="0 0 0"/>
      <geometry>
        <mesh filename="package://robot_description/strirus_cad_design/stl/leg_80_visual.stl" scale="1 1 1"/>
      </geometry>
    </visual>
  </link>
  <joint name="motor_box_right_0_fixed_joint" type="fixed">
    <child link="motor_box_right_0"/>
    <parent link="body_1_part"/>
    <origin rpy="0       0        -1.83259571459" xyz="0.016 -0.0701  0"/>
  </joint>
  <joint name="leg_right_0_revolute_joint" type="revolute">
    <parent link="motor_box_right_0"/>
    <child link="leg_right_0"/>
    <origin rpy="0 0.0 1.57079632679" xyz="0.123 0 0"/>
    <!--=============== Joint properties ===============-->
    <axis xyz="0 1  0"/>
    <limit effort="300" lower="-1e+5" upper="1e+5" velocity="3.0"/>
    <dynamics damping="0.001" friction="0.0"/>
  </joint>
  <!--===================== Leg transmission description =====================-->
  <transmission name="leg_right_0_trans">
    <type>transmission_interface/SimpleTransmission</type>
    <joint name="leg_right_0_revolute_joint">
      <hardwareInterface>hardware_interface/PositionJointInterface</hardwareInterface>
      <!-- <hardwareInterface>hardware_interface/EffortJointInterface</hardwareInterface> -->
    </joint>
    <actuator name="leg_right_0_motor">
      <mechanicalReduction>1</mechanicalReduction>
    </actuator>
  </transmission>
  <gazebo reference="leg_right_0">

        </gazebo>
  <gazebo reference="leg_right_0">
    <mu1 value="100.0"/>
    <mu2 value="100.0"/>
    <material>Gazebo/Green</material>
  </gazebo>
  <!-- frameName seems not working data are given according to the world frame -->
  <gazebo reference="leg_right_0">
    <sensor name="leg_right_0_bumper" type="contact">
      <always_on>true</always_on>
      <update_rate>50</update_rate>
      <contact>
        <collision>leg_right_0_collision</collision>
      </contact>
      <plugin filename="libgazebo_ros_bumper.so" name="leg_right_0_bumper_controller">
        <bumperTopicName>leg_right_0_bumper</bumperTopicName>
        <frameName>world</frameName>
      </plugin>
    </sensor>
  </gazebo>
  <!--====================== Plugin TOF camera 2 ======================-->
  <gazebo reference="tof_camera_2">
    <sensor name="tof_camera_2_camera" type="depth">
      <update_rate>45</update_rate>
      <camera>
        <horizontal_fov>1.0821</horizontal_fov>
        <image>
          <width>224</width>
          <height>171</height>
          <format>L8</format>
        </image>
        <clip>
          <near>0.01</near>
          <far>4</far>
        </clip>
      </camera>
      <plugin filename="libgazebo_ros_openni_kinect.so" name="camera_2_plugin">
        <baseline>0.2</baseline>
        <alwaysOn>true</alwaysOn>
        <updateRate>0.0</updateRate>
        <cameraName>pico_flexx2</cameraName>
        <imageTopicName>/pico_flexx2/color/image_raw</imageTopicName>
        <cameraInfoTopicName>/pico_flexx2/camera_info</cameraInfoTopicName>
        <depthImageTopicName>/pico_flexx2/image_depth</depthImageTopicName>
        <depthImageCameraInfoTopicName>/pico_flexx2/camera_info</depthImageCameraInfoTopicName>
        <pointCloudTopicName>/pico_flexx/points2</pointCloudTopicName>
        <frameName>tof_camera_2</frameName>
        <pointCloudCutoff>0.5</pointCloudCutoff>
        <pointCloudCutoffMax>3.0</pointCloudCutoffMax>
        <distortionK1>0.478024</distortionK1>
        <distortionK2>-5.00469</distortionK2>
        <distortionK3>8.73712</distortionK3>
        <distortionT1>2.15213e-15</distortionT1>
        <distortionT2>-2.30369e-16</distortionT2>
        <CxPrime>0</CxPrime>
        <Cx>112.654</Cx>
        <Cy>87.9818</Cy>
        <focalLength>186.400175</focalLength>
        <hackBaseline>0</hackBaseline>
      </plugin>
    </sensor>
  </gazebo>
  <!--====================== Plugin TOF camera 1 ======================-->
  <!-- <gazebo reference="tof_camera_1">
      <sensor name="tof_camera_1_camera" type="depth">
        <update_rate>45</update_rate>
        <camera>
          <horizontal_fov>1.0821</horizontal_fov>
          <image>
            <width>224</width>
            <height>171</height>
            <format>L8</format>
          </image>
          <clip>
            <near>0.01</near>
            <far>4</far>
          </clip>
        </camera>
        <plugin name="camera_1_plugin" filename="libgazebo_ros_openni_kinect.so">
              <baseline>0.2</baseline>
              <alwaysOn>true</alwaysOn>
              <updateRate>0.0</updateRate>
              <cameraName>pico_flexx1</cameraName>
              <imageTopicName>/pico_flexx1/color/image_raw</imageTopicName>
              <cameraInfoTopicName>/pico_flexx1/camera_info</cameraInfoTopicName>
              <depthImageTopicName>/pico_flexx1/image_depth</depthImageTopicName>
              <depthImageCameraInfoTopicName>/pico_flexx1/camera_info</depthImageCameraInfoTopicName>
              <pointCloudTopicName>/pico_flexx1/points</pointCloudTopicName>
              <frameName>tof_camera_1</frameName>
              <pointCloudCutoff>0.5</pointCloudCutoff>
              <pointCloudCutoffMax>3.0</pointCloudCutoffMax>
              <distortionK1>0.478024</distortionK1>
              <distortionK2>-5.00469</distortionK2>
              <distortionK3>8.73712</distortionK3>
              <distortionT1>2.15213e-15</distortionT1>
              <distortionT2>-2.30369e-16</distortionT2>
              <CxPrime>0</CxPrime>
              <Cx>112.654</Cx>
              <Cy>87.9818</Cy>
              <focalLength>211.101</focalLength>
              <hackBaseline>0</hackBaseline>
        </plugin>
      </sensor>
    </gazebo> -->
  <!--====================== Plugin IMU 1 ======================-->
  <gazebo reference="imu_1">
    <sensor name="imu_sensor_1" type="imu">
      <always_on>true</always_on>
      <update_rate>100</update_rate>
      <plugin filename="libgazebo_ros_imu_sensor.so" name="imu_plugin_1">
        <topicName>imu1</topicName>
        <bodyName>imu_1</bodyName>
        <updateRateHZ>10.0</updateRateHZ>
        <gaussianNoise>0.0</gaussianNoise>
        <xyzOffset>0 0 0</xyzOffset>
        <rpyOffset>0 0 0</rpyOffset>
        <frameName>imu_1</frameName>
      </plugin>
    </sensor>
  </gazebo>
  <!--====================== Plugin IMU 2 ======================-->
  <gazebo reference="imu_2">
    <sensor name="imu_sensor_2" type="imu">
      <always_on>true</always_on>
      <update_rate>100</update_rate>
      <plugin filename="libgazebo_ros_imu_sensor.so" name="imu_plugin_2">
        <topicName>imu2</topicName>
        <bodyName>imu_2</bodyName>
        <updateRateHZ>10.0</updateRateHZ>
        <gaussianNoise>0.0</gaussianNoise>
        <xyzOffset>0 0 0</xyzOffset>
        <rpyOffset>0 0 0</rpyOffset>
        <frameName>imu_2</frameName>
      </plugin>
    </sensor>
  </gazebo>
  <gazebo>
    <plugin filename="libgazebo_ros_control.so" name="gazebo_ros_control">
      <robotNamespace>/strirus_robot</robotNamespace>
      <robotSimType>gazebo_ros_control/DefaultRobotHWSim</robotSimType>
    </plugin>
  </gazebo>
  <!-- Joint state publisher can be used either here, or in controller.yaml+roslaunch node args -->
  <gazebo>
    <plugin filename="libgazebo_ros_joint_state_publisher.so" name="joint_state_publisher">
      <robotNamespace>/strirus_robot</robotNamespace>
      <jointName>leg_left_5_revolute_joint, leg_left_4_revolute_joint, leg_left_3_revolute_joint,
                leg_left_2_revolute_joint, leg_left_1_revolute_joint, leg_left_0_revolute_joint,
                leg_right_5_revolute_joint, leg_right_4_revolute_joint, leg_right_3_revolute_joint,
                leg_right_2_revolute_joint, leg_right_1_revolute_joint, leg_right_0_revolute_joint, segment_up_revolute,
                segment_side_revolute
            </jointName>
      <updateRate>60.0</updateRate>
      <alwaysOn>true</alwaysOn>
    </plugin>
  </gazebo>
</robot>
